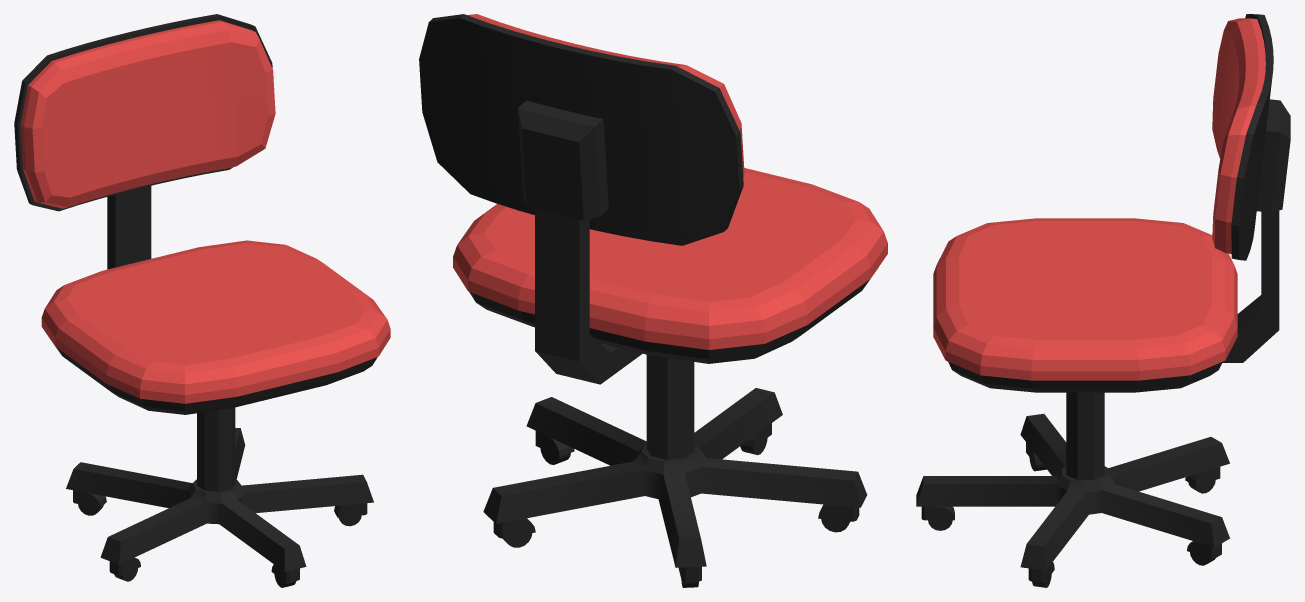
The model's file is player_chair.fbx.
3 renders of one model, left to right at view 1: azimuth 30°, elevation 25°; view 2: azimuth 150°, elevation 25°; view 3: azimuth 270°, elevation 25°, orthographic. The views are drawn at different scales.
Visible parts, largest first — view 1: chair, base, wheel3, wheel5, wheel2; view 2: chair, base, wheel4, wheel2, wheel5; view 3: chair, base, wheel1, wheel3, wheel4.
Part boxes in pixels (box(x1,y1,x2,y2)): chair: box(14, 14, 390, 491); base: box(66, 428, 373, 571); wheel3: box(73, 490, 106, 515); wheel5: box(334, 503, 367, 526); wheel2: box(109, 557, 140, 581); chair: box(419, 14, 887, 459); base: box(483, 388, 867, 567); wheel4: box(493, 518, 535, 547); wheel2: box(818, 504, 859, 532); wheel5: box(535, 431, 574, 464); chair: box(933, 14, 1290, 479); base: box(916, 413, 1229, 570); wheel1: box(921, 506, 954, 530); wheel3: box(1185, 467, 1220, 493); wheel4: box(1187, 541, 1221, 565).
Size of what is drawn, in the model's own units: 0.7356 by 1.14 by 0.8277.
